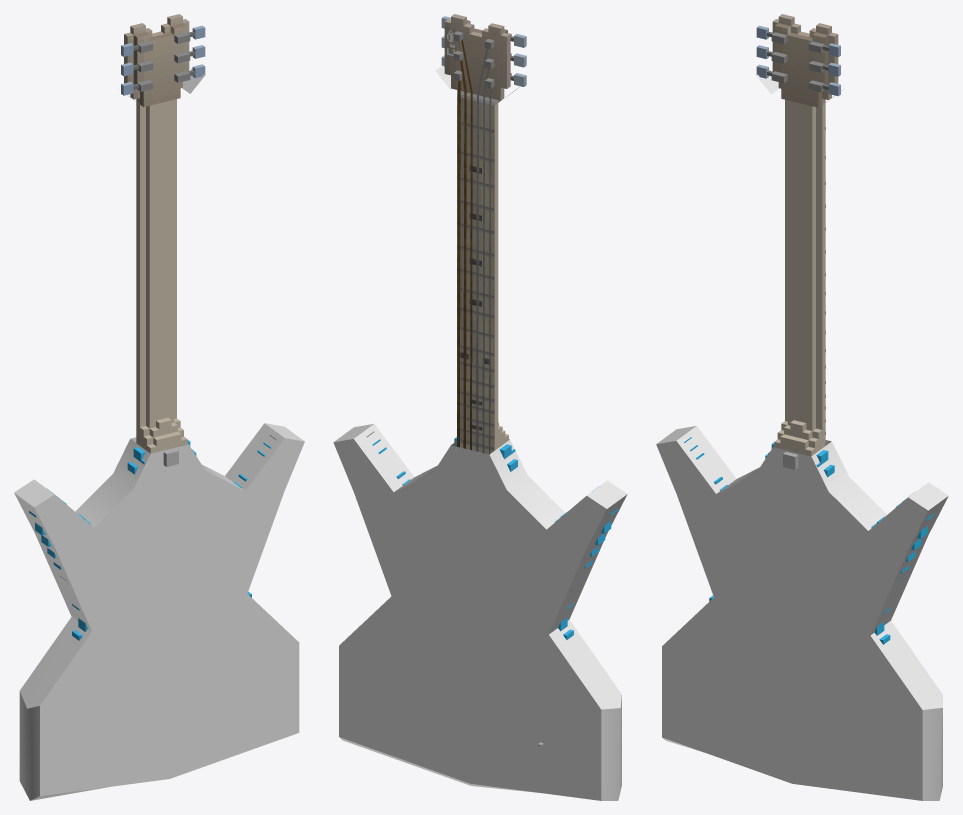
File: ElectricGuitar_Cafe.fbx
3 views of the same model, side by side, from view 1: azimuth 30°, elevation 25°; view 2: azimuth 150°, elevation 25°; view 3: azimuth 330°, elevation 25° (orthographic).
Parts seen in each view (by area): view 1: ElectricGuitar_Cafe, Model; view 2: ElectricGuitar_Cafe, Model; view 3: ElectricGuitar_Cafe, Model.
Boxes of the visible parts, x1,y1,x2,y2 form: ElectricGuitar_Cafe: (14, 68, 304, 800); Model: (29, 14, 277, 640); ElectricGuitar_Cafe: (333, 65, 627, 800); Model: (366, 14, 617, 746); ElectricGuitar_Cafe: (656, 68, 948, 800); Model: (684, 14, 933, 644).
Bounding box in the file's own units: 439 × 1174 × 72.62.
